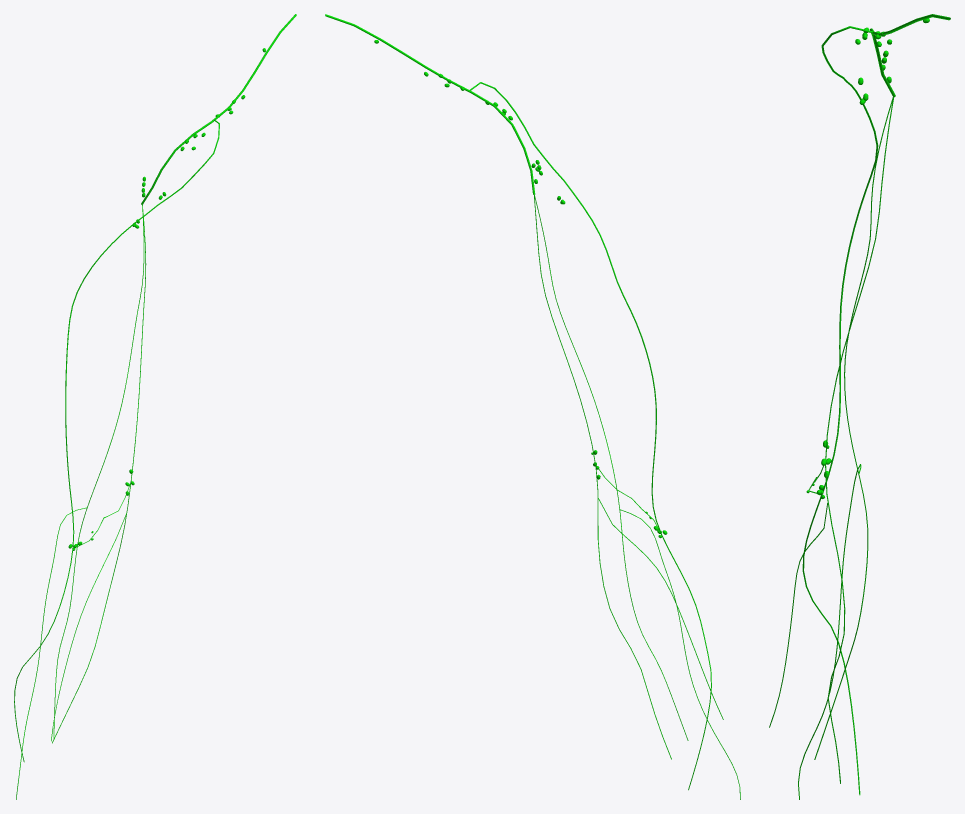
The model's file is Upper limb Lymphatic.fbx.
3 renders of one model, left to right at view 1: azimuth 30°, elevation 25°; view 2: azimuth 150°, elevation 25°; view 3: azimuth 270°, elevation 25°, orthographic. The views are drawn at different scales.
Visible parts, largest first — view 1: Radial_group_of_lymph_vessels, Ulnar_group_of_lymph_vessels3, Ulnar_group_of_lymph_vessels, Subclavian_trunk; view 2: Radial_group_of_lymph_vessels, Ulnar_group_of_lymph_vessels, Subclavian_trunk, Ulnar_group_of_lymph_vessels3; view 3: Radial_group_of_lymph_vessels, Ulnar_group_of_lymph_vessels, Ulnar_group_of_lymph_vessels3, Radial_group_of_lymph_vessels2, Subclavian_trunk, Ulnar_group_of_lymph_vessels2.
Boxes of the visible parts, x1,y1,x2,y2 form: Radial_group_of_lymph_vessels: (14,119,219,762); Ulnar_group_of_lymph_vessels3: (53,205,144,738); Ulnar_group_of_lymph_vessels: (52,209,146,743); Subclavian_trunk: (141,14,296,204); Radial_group_of_lymph_vessels: (470,82,711,790); Ulnar_group_of_lymph_vessels: (533,194,671,759); Subclavian_trunk: (325,14,535,194); Ulnar_group_of_lymph_vessels3: (534,194,688,740); Radial_group_of_lymph_vessels: (802,26,878,795); Ulnar_group_of_lymph_vessels: (825,97,893,783); Ulnar_group_of_lymph_vessels3: (814,97,893,759); Radial_group_of_lymph_vessels2: (798,464,861,799); Subclavian_trunk: (870,14,950,97); Ulnar_group_of_lymph_vessels2: (769,503,827,727).
Size of the model in its own units: 29.64 by 57.63 by 9.24.
